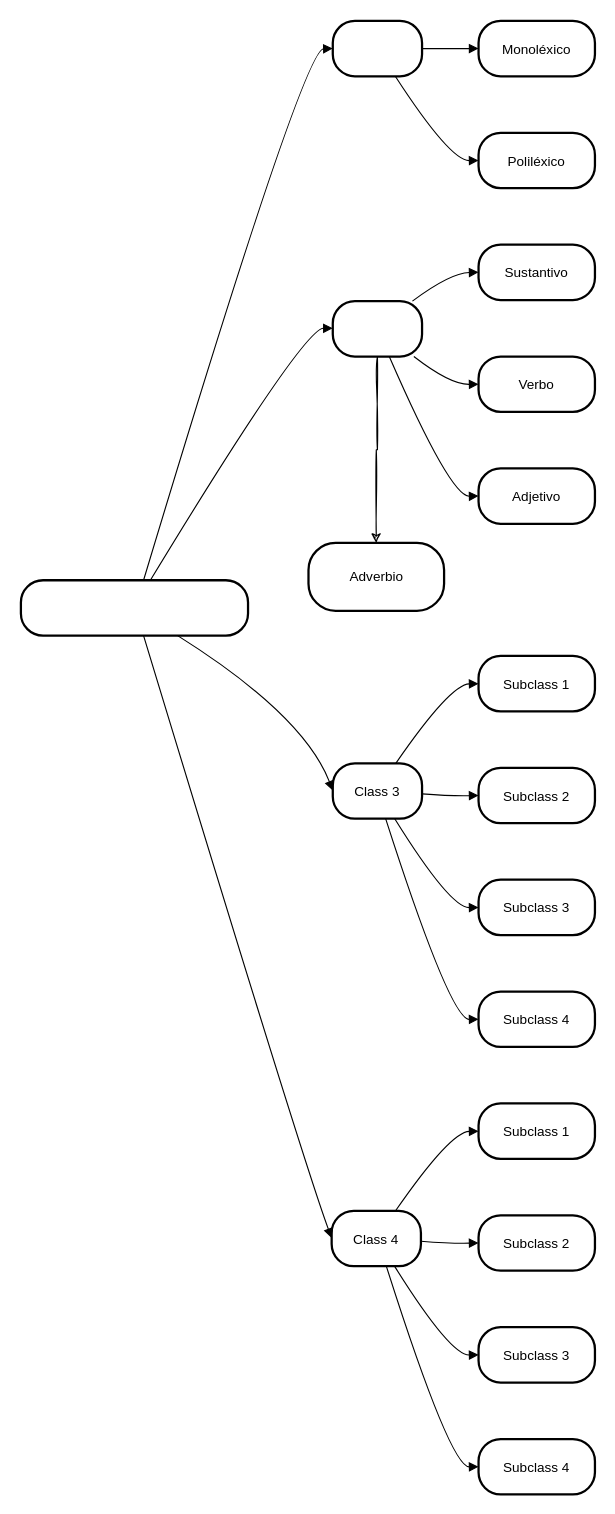
The diagram is 615 pixels wide and 1514 high, and some of its shapes have lost their labels. The shapes that lost their labels are listed below. From the top down, each one's centre as x and y in pixels, then its label:
point 377,48: Forma
point 377,328: Categoría gramatical
point 134,607: Término
